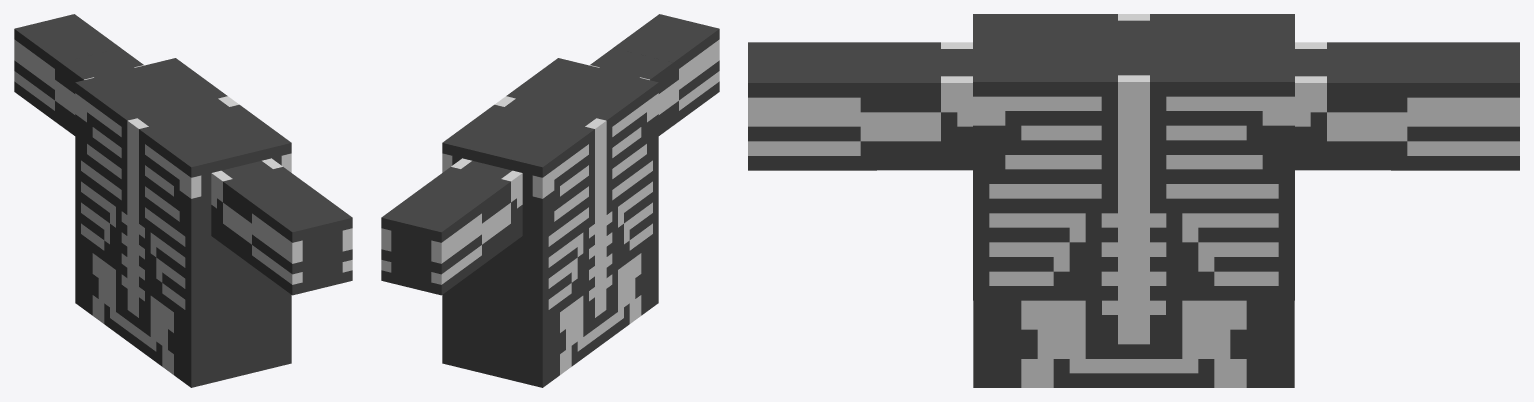
File: av_top_bones.glb
3 views of the same model, side by side, from view 1: azimuth 30°, elevation 25°; view 2: azimuth 150°, elevation 25°; view 3: azimuth 270°, elevation 25° (orthographic). The views are drawn at different scales.
Parts seen in each view (by area): view 1: model-5; view 2: model-5; view 3: model-5.
Boxes of the visible parts, box(x1,y1,x2,y2) form: model-5: box(14, 14, 352, 387); model-5: box(381, 14, 719, 387); model-5: box(748, 14, 1519, 387).
Bounding box in the file's own units: 0.1001 × 0.2101 × 0.4801.
1 material, 1 textured.
